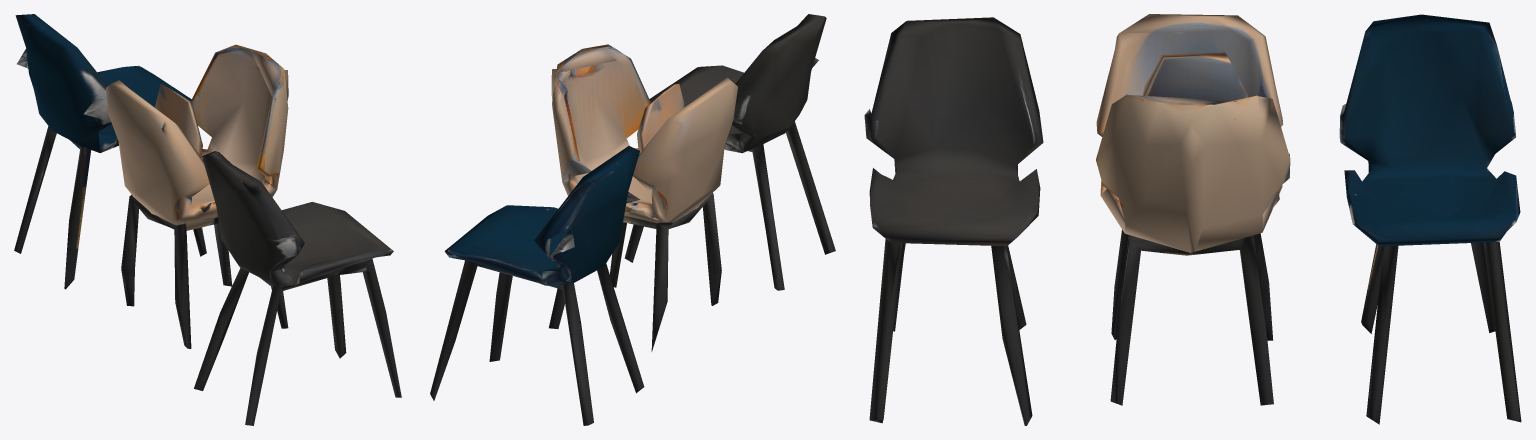
Rendered from legacy_mesh (1).glb.
3 views of the same model, side by side, from view 1: azimuth 30°, elevation 25°; view 2: azimuth 150°, elevation 25°; view 3: azimuth 270°, elevation 25° (orthographic). The views are drawn at different scales.
Visible parts, largest first — view 1: tripo_node_f6c5d35a-940a-4a03-97bf-91483164b88a; view 2: tripo_node_f6c5d35a-940a-4a03-97bf-91483164b88a; view 3: tripo_node_f6c5d35a-940a-4a03-97bf-91483164b88a.
Boxes of the visible parts, <box> form: tripo_node_f6c5d35a-940a-4a03-97bf-91483164b88a: <box>14,14,401,425</box>; tripo_node_f6c5d35a-940a-4a03-97bf-91483164b88a: <box>430,14,835,425</box>; tripo_node_f6c5d35a-940a-4a03-97bf-91483164b88a: <box>864,14,1521,425</box>.
Bounding box in the file's own units: 0.3665 × 0.5403 × 0.999.
Materials: 1 (1 with a texture image).
